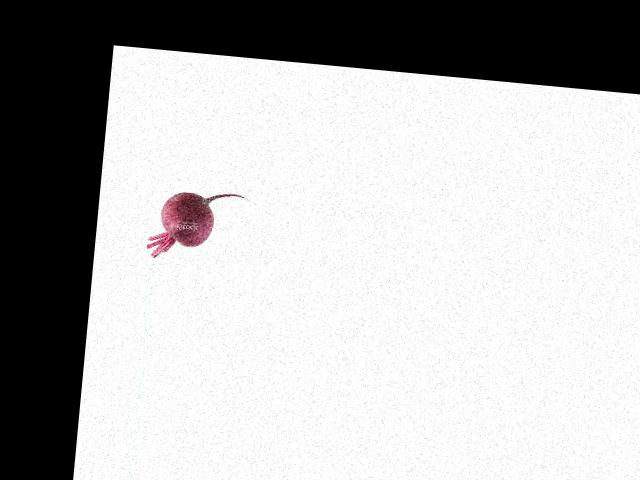beet: (145, 187, 249, 265)
